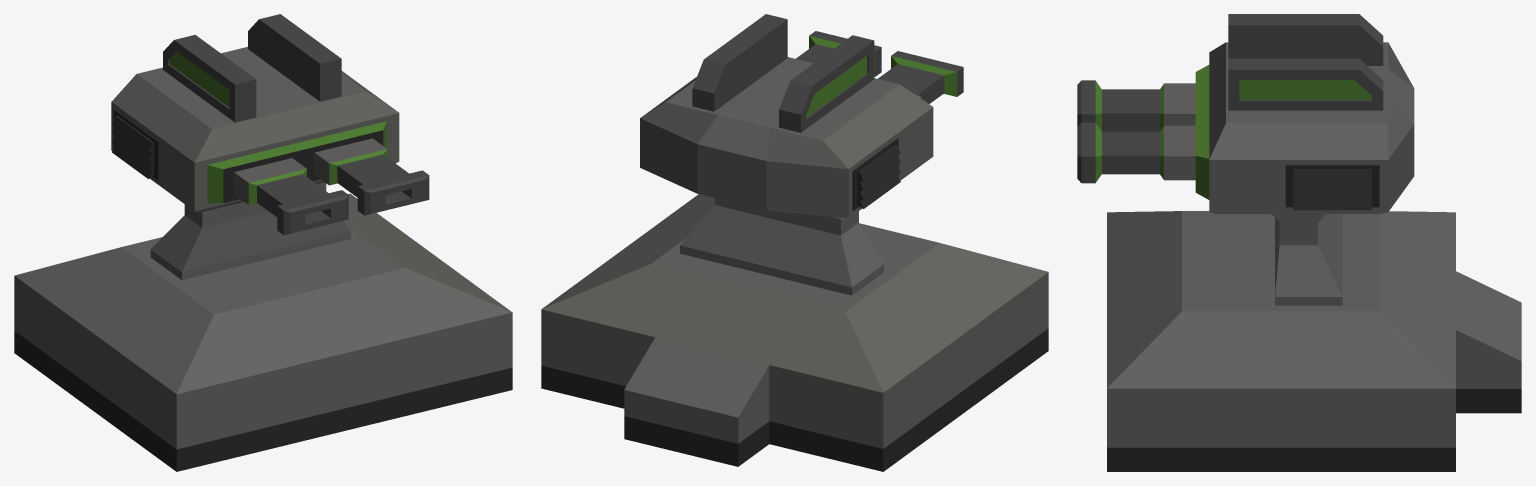
Rendered from size1Gun.glb.
The picture shows the model from 3 angles, left to right: view 1: azimuth 30°, elevation 25°; view 2: azimuth 150°, elevation 25°; view 3: azimuth 270°, elevation 25°; orthographic projection. The views are drawn at different scales.
Parts seen in each view (by area): view 1: Size 1 Gun; view 2: Size 1 Gun; view 3: Size 1 Gun.
Boxes of the visible parts, x1,y1,x2,y2 form: Size 1 Gun: (14,14,512,471); Size 1 Gun: (541,14,1048,471); Size 1 Gun: (1077,14,1521,471).
Bounding box in the file's own units: 0.7927 × 0.7173 × 0.8444.
